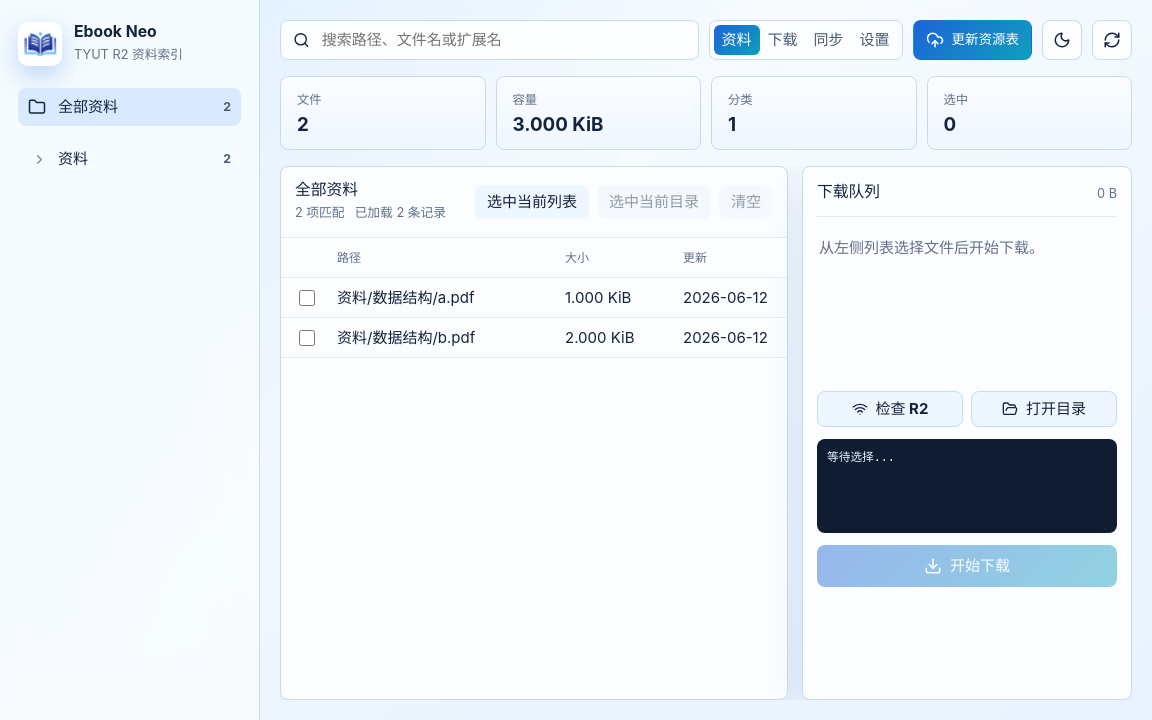
Test case: App › checks the configured rclone remote from the download panel
Expected: the text "资料/数据结构/a.pdf" is shown, [337, 288, 474, 306]
Click the button "检查 R2".
click(890, 409)  # box [817, 391, 963, 427]
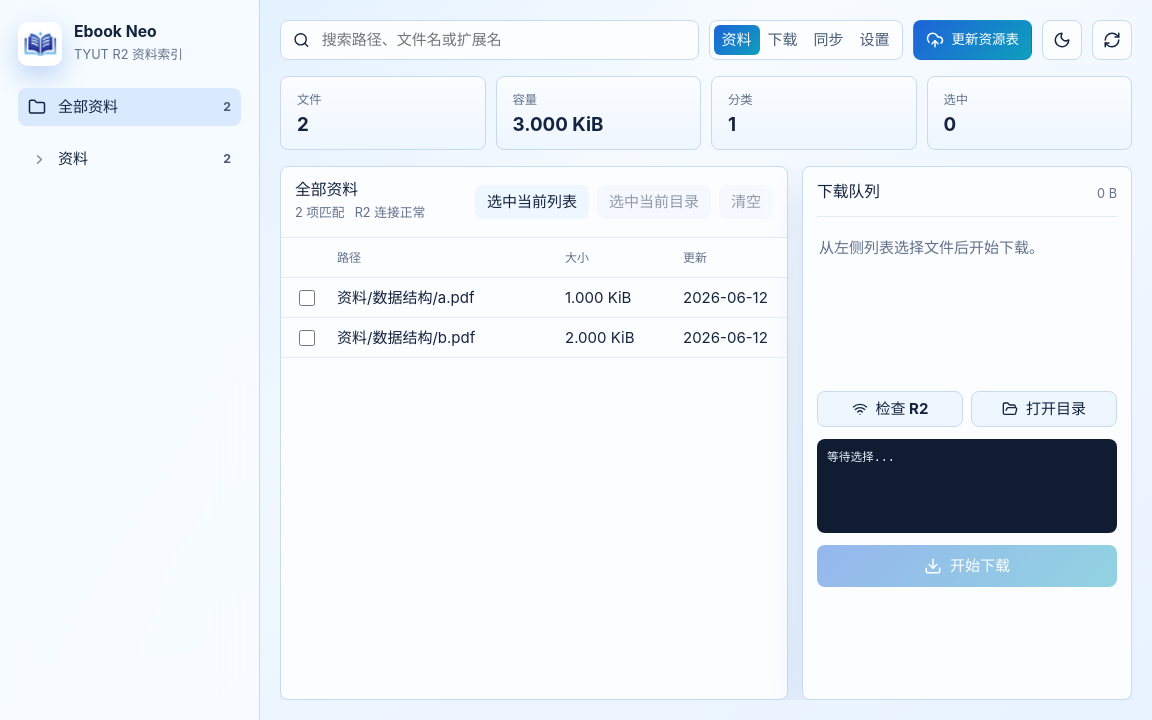
Now the text "R2 连接正常" is shown, box [355, 204, 425, 223]
